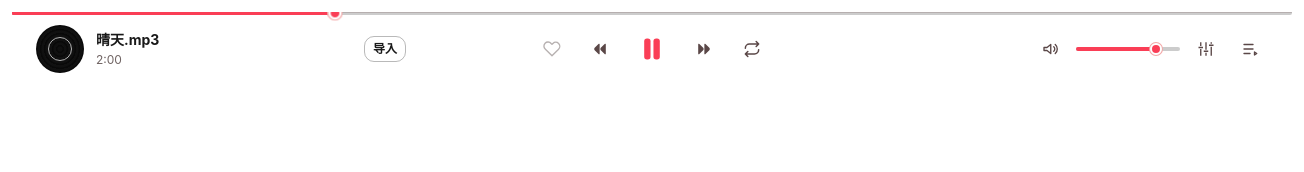
Test: PlayerBar (task 11.7) — temporary item label › shows a non-success result without claiming an import (failed)
Step 1. Click the button "导入" → (385, 49), box [364, 36, 406, 62]
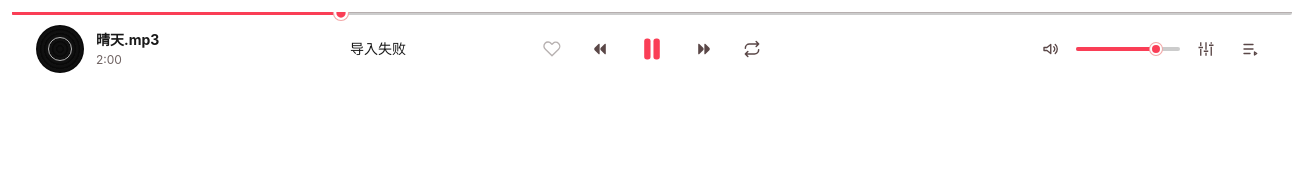
Expected: the text with test id "player-import-result" reads "导入失败", [350, 40, 406, 57]
